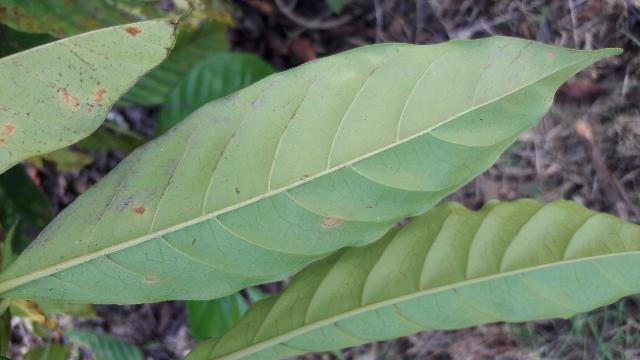rust_level_1: (0, 38, 624, 303)
